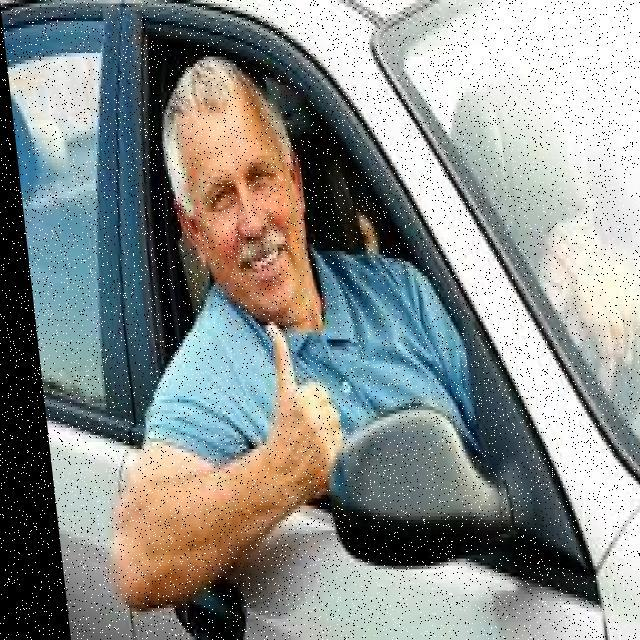noSeatbelt: (144, 224, 480, 507)
